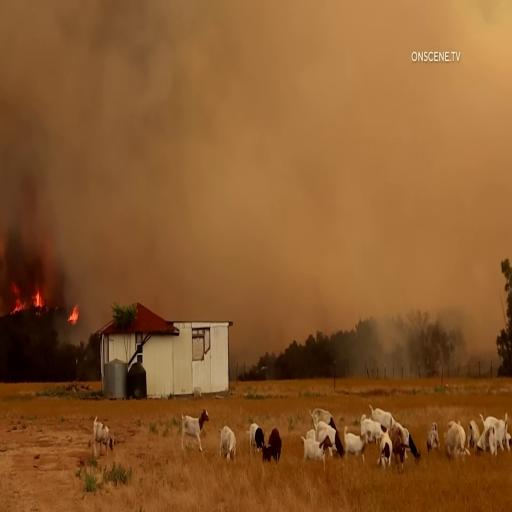fire: (2, 292, 40, 335)
smoke: (81, 96, 186, 296)
